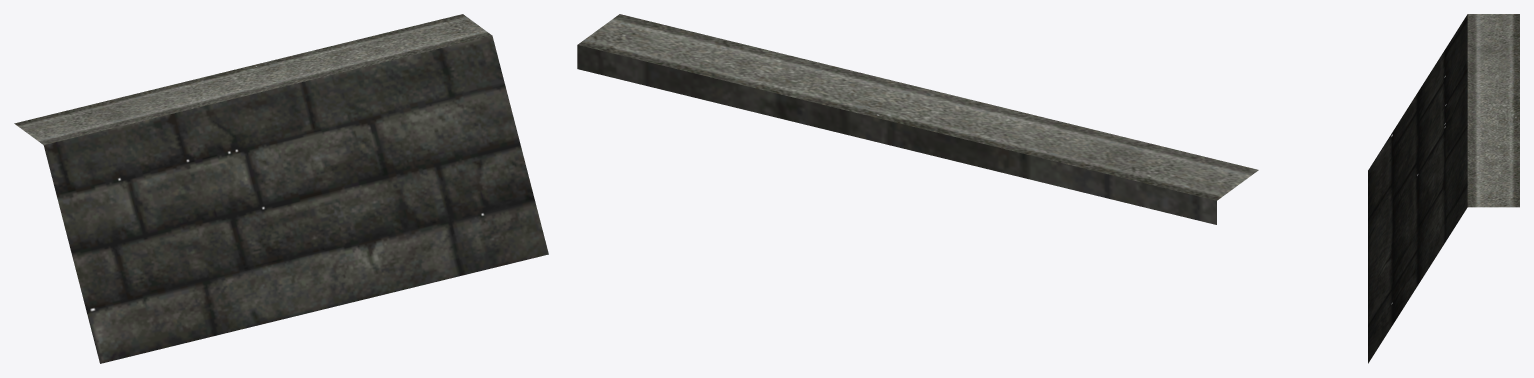
File: stadium_01_02.glb
3 renders of one model, left to right at view 1: azimuth 30°, elevation 25°; view 2: azimuth 150°, elevation 25°; view 3: azimuth 270°, elevation 25°, orthographic. The views are drawn at different scales.
Visible parts, largest first — view 1: stadium_01_02; view 2: stadium_01_02; view 3: stadium_01_02.
Part boxes in pixels (x1,y1,x2,y2): stadium_01_02: [14, 14, 548, 363]; stadium_01_02: [577, 14, 1258, 224]; stadium_01_02: [1368, 14, 1519, 363].
Size of the model in its own units: 10 by 3.78 by 3.32.
Materials: 1 (1 with a texture image).
